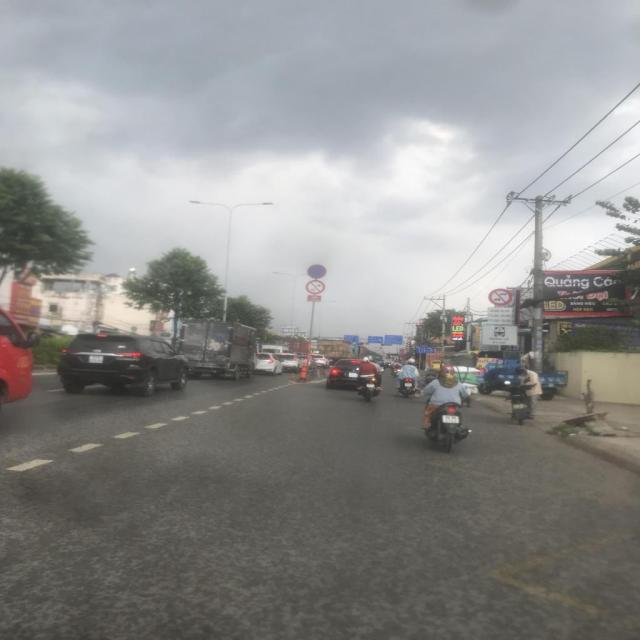cam_dung_xe_va_do_xe: (307, 264, 327, 278)
cam_o_to_tai_va_xe_khach: (488, 288, 513, 306)
cam_xe_2_banh_va_xe_3_banh_co_dong_co: (306, 280, 326, 294)
huong_di_tren_moi_lan_duong_theo_vach_ke_duong: (416, 347, 436, 354)
khac: (482, 326, 518, 346), (487, 307, 513, 325), (384, 335, 404, 345), (367, 336, 383, 344)
